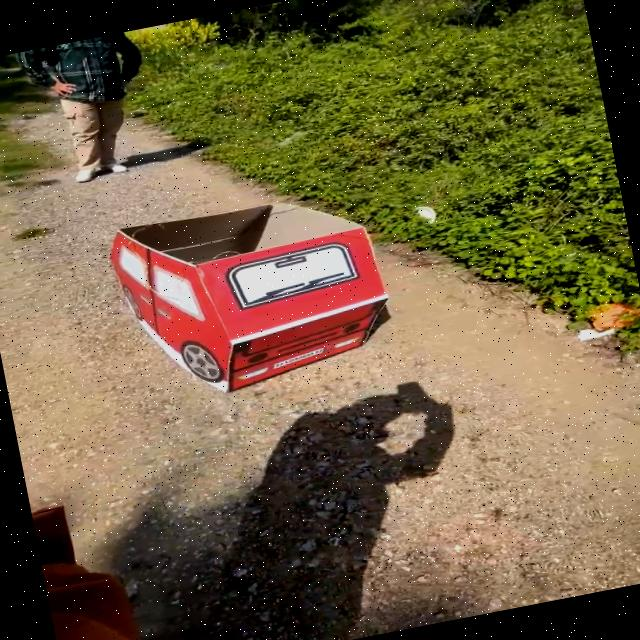red_car: (88, 172, 419, 431)
